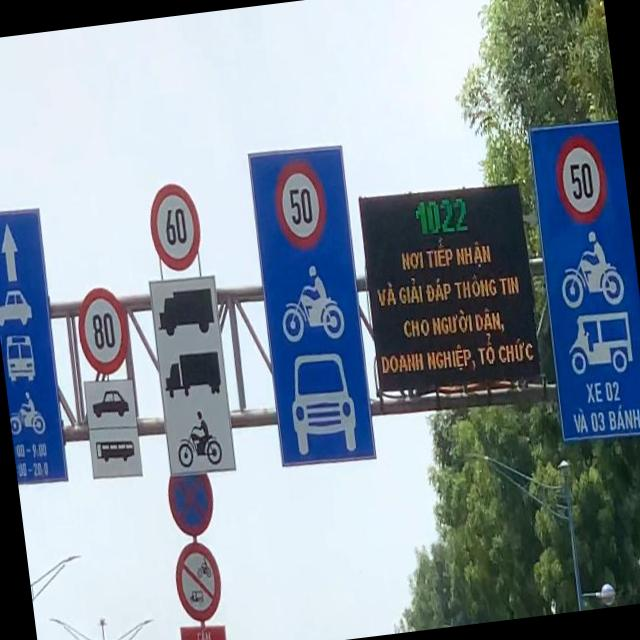P-127: (145, 182, 204, 273), (73, 286, 128, 376)
P-130: (164, 466, 216, 536)
